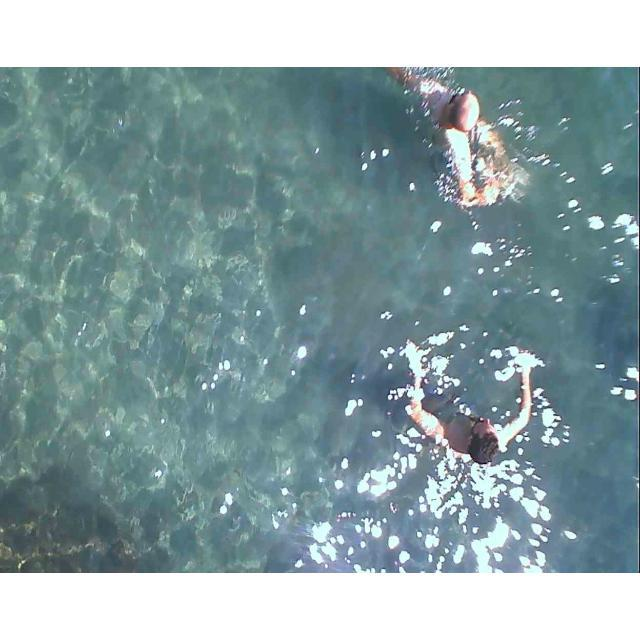human: (406, 326, 532, 475), (401, 67, 513, 188)
